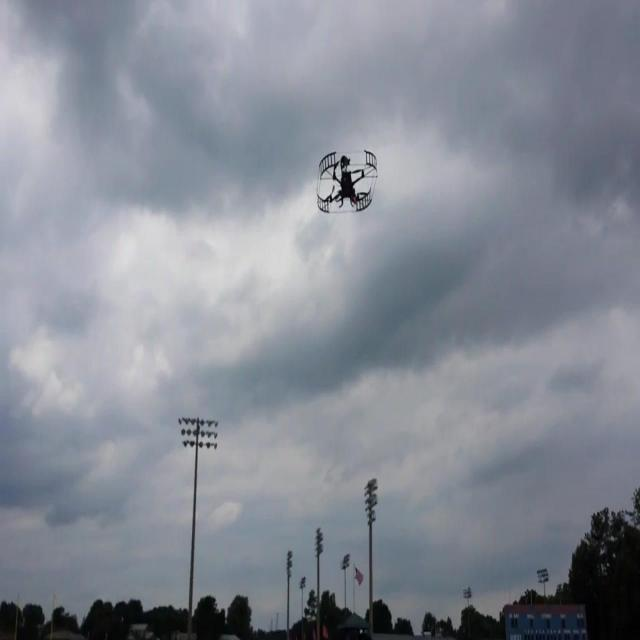UAV: (316, 150, 378, 214)
